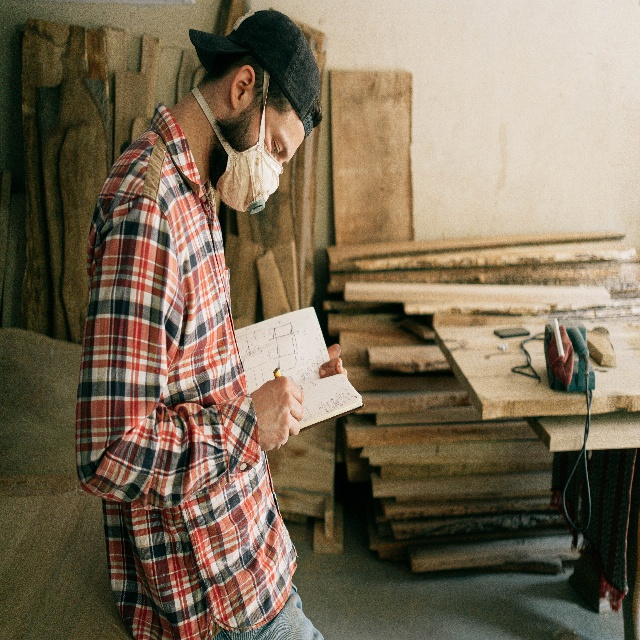Mascara: (192, 65, 283, 215)
Sin_guantes: (251, 375, 304, 452), (318, 341, 348, 378)
